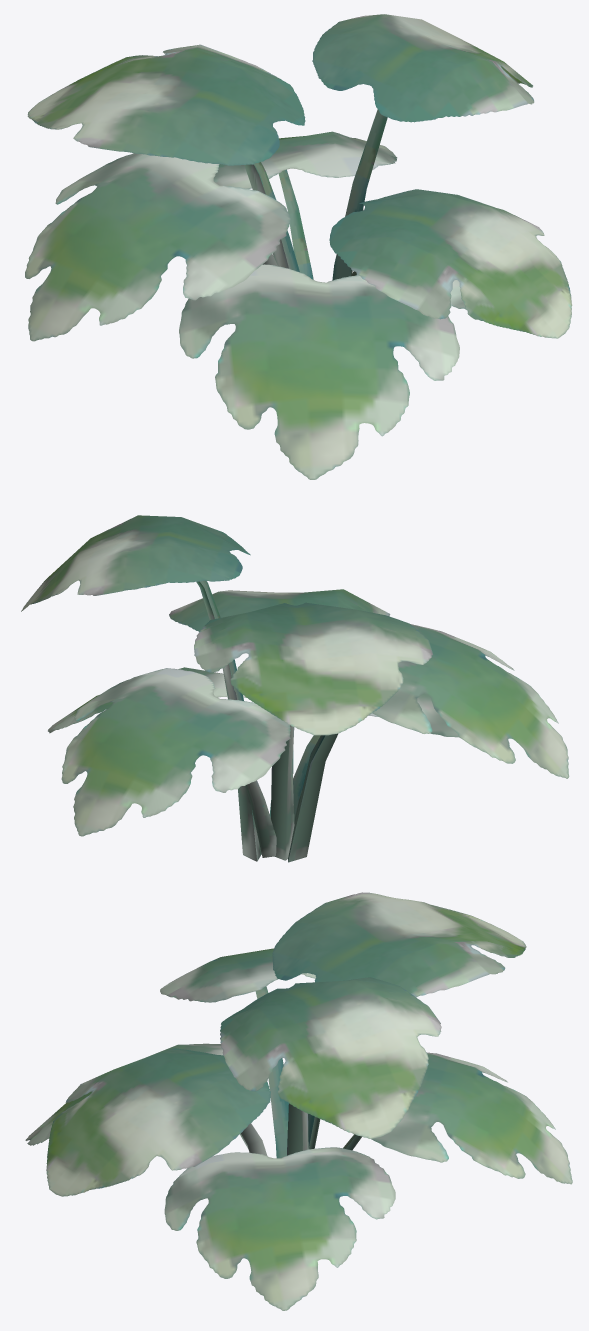
File: pref_sm_beach_winter_techptree06d_lv3.fbx
3 views of the same model, one above another, from view 1: azimuth 30°, elevation 25°; view 2: azimuth 150°, elevation 25°; view 3: azimuth 270°, elevation 25° (orthographic). The views are drawn at different scales.
Parts seen in each view (by area): view 1: pref_sm_beach_winter_techptree06d_lv3; view 2: pref_sm_beach_winter_techptree06d_lv3; view 3: pref_sm_beach_winter_techptree06d_lv3.
Boxes of the visible parts, x1,y1,x2,y2 form: pref_sm_beach_winter_techptree06d_lv3: (25,14,572,479); pref_sm_beach_winter_techptree06d_lv3: (21,515,569,862); pref_sm_beach_winter_techptree06d_lv3: (25,892,572,1310).
Size of the model in its own units: 2.1 by 1.22 by 1.93.
